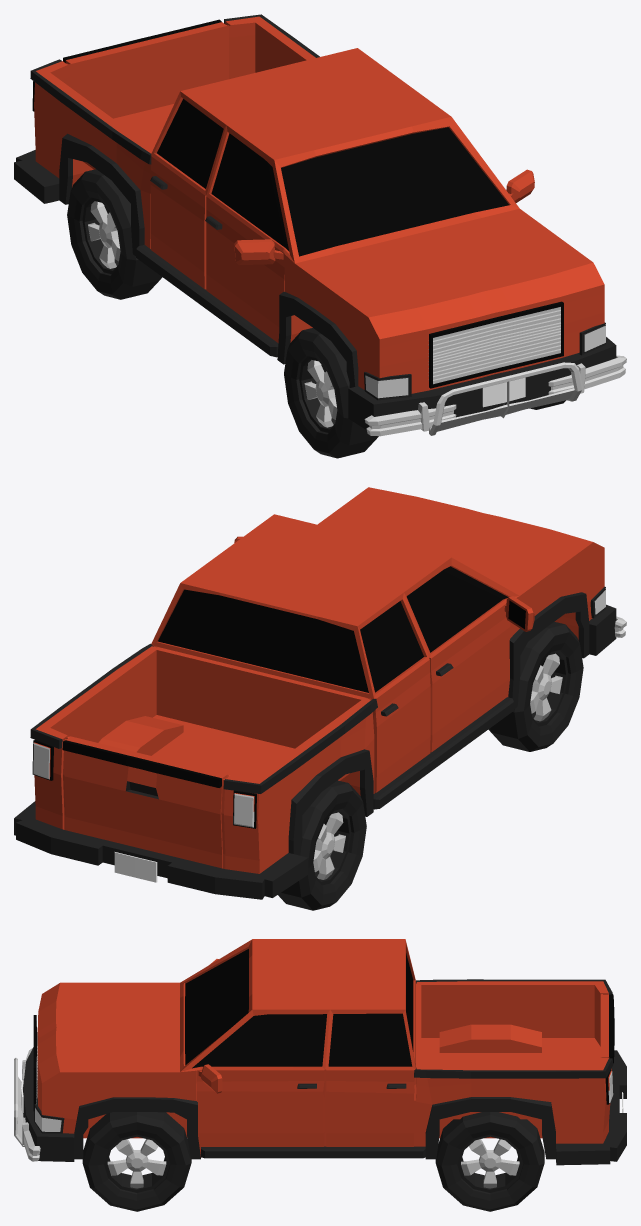
File: TRUCK.fbx
3 views of the same model, one above another, from view 1: azimuth 30°, elevation 25°; view 2: azimuth 150°, elevation 25°; view 3: azimuth 270°, elevation 25° (orthographic). The views are drawn at different scales.
Parts seen in each view (by area): view 1: Cube.002; view 2: Cube.002; view 3: Cube.002.
Part boxes in pixels (box(x1,y1,x2,y2)): Cube.002: box(14, 14, 626, 458); Cube.002: box(14, 487, 626, 910); Cube.002: box(14, 939, 626, 1211).
Size of the model in its own units: 484 by 367 by 1057.
